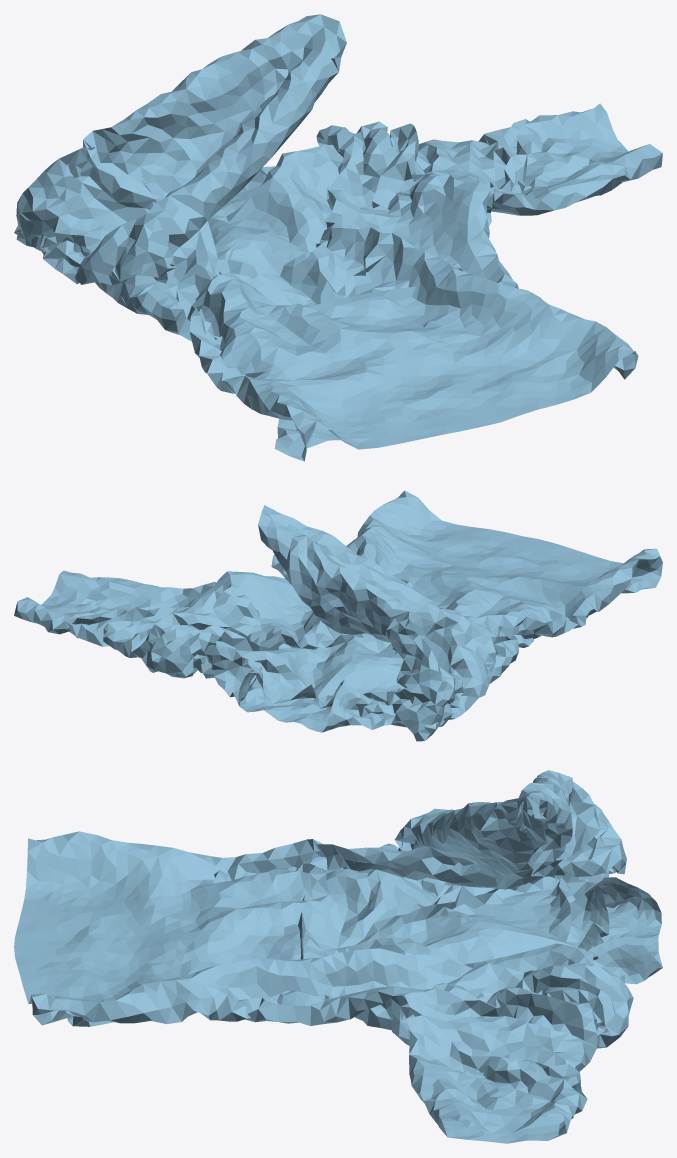
Rendered from frame_17.glb.
The picture shows the model from 3 angles, top to bottom: view 1: azimuth 30°, elevation 25°; view 2: azimuth 150°, elevation 25°; view 3: azimuth 270°, elevation 25°; orthographic projection. The views are drawn at different scales.
Parts seen in each view (by area): view 1: frame_17.obj; view 2: frame_17.obj; view 3: frame_17.obj.
Boxes of the visible parts, x1,y1,x2,y2 form: frame_17.obj: [14, 14, 662, 461]; frame_17.obj: [14, 490, 662, 741]; frame_17.obj: [14, 770, 662, 1143].
Size of the model in its own units: 1.38 by 0.477 by 1.35.
